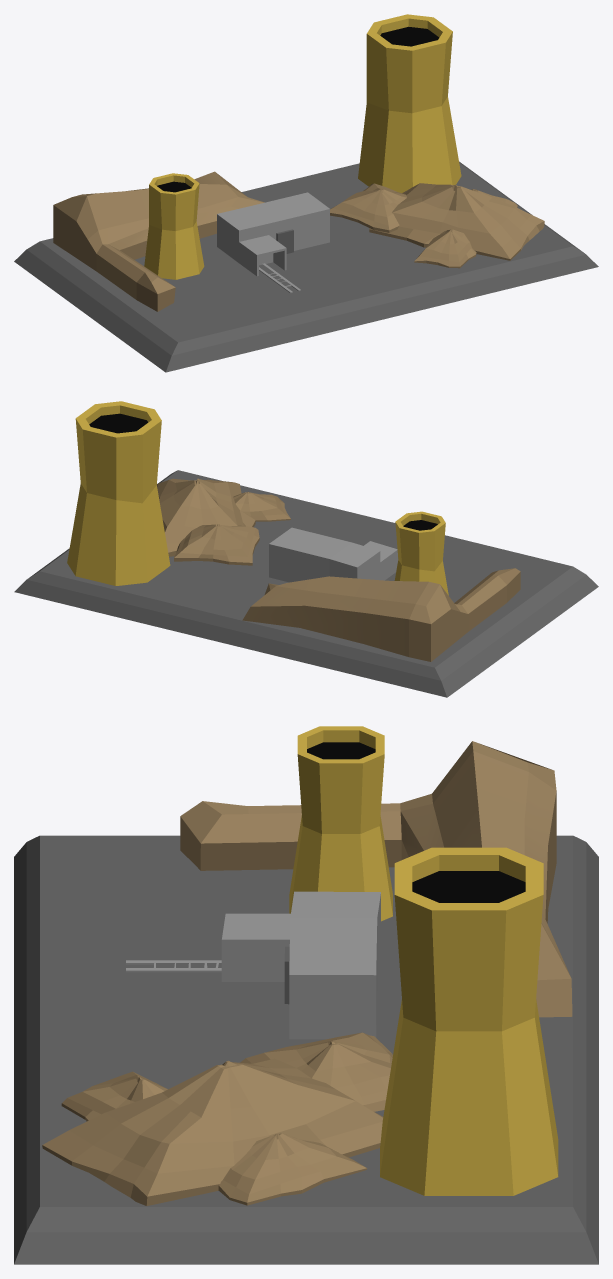
File: coal_mine_var3_model.fbx
3 renders of one model, top to bottom at view 1: azimuth 30°, elevation 25°; view 2: azimuth 150°, elevation 25°; view 3: azimuth 270°, elevation 25°, orthographic. The views are drawn at different scales.
Visible parts, largest first — view 1: polySurface17; view 2: polySurface17; view 3: polySurface17.
Part boxes in pixels (box(x1,y1,x2,y2)): polySurface17: box(14, 14, 598, 372); polySurface17: box(14, 401, 598, 697); polySurface17: box(14, 726, 598, 1264).
Size of the model in its own units: 20.8 by 7.58 by 12.62.
1 material, 1 textured.
